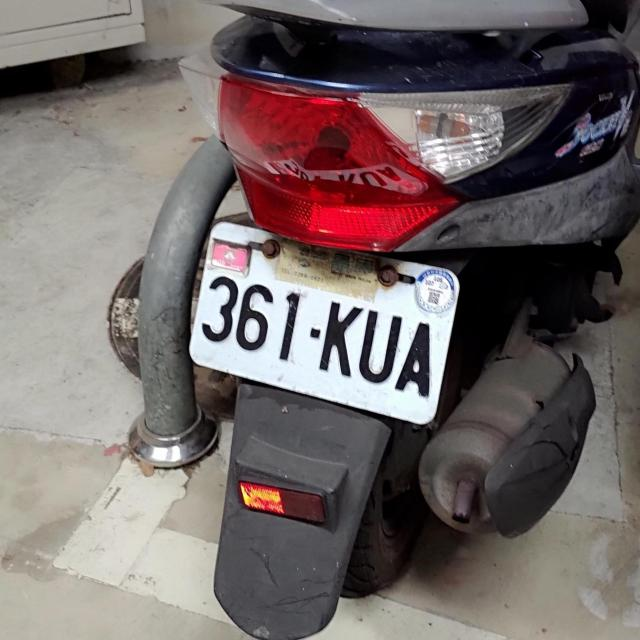W: (180, 214, 470, 428)
